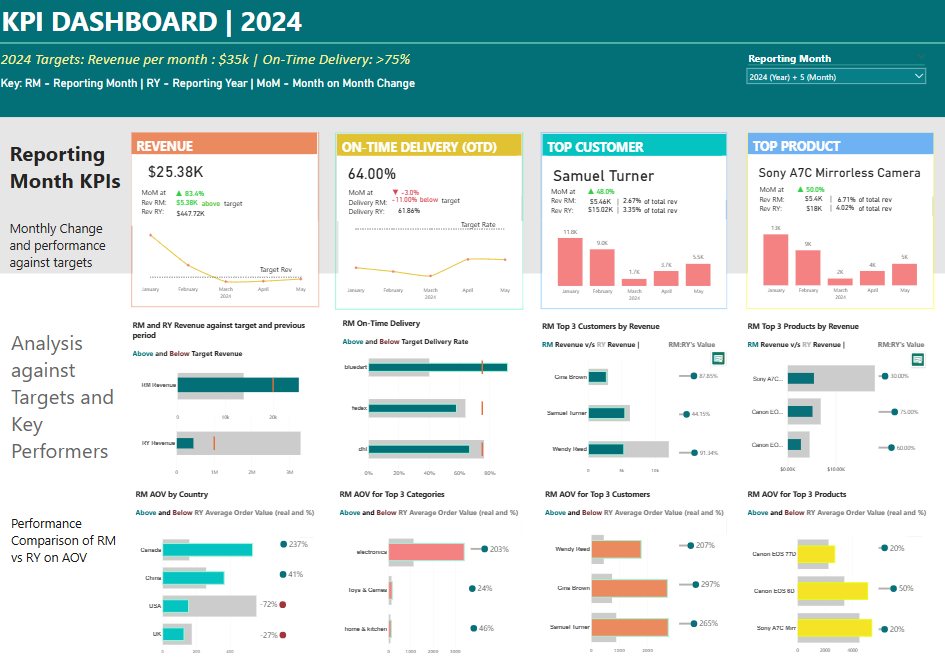

The page's visual inventory and layout, read from the dashboard file:
{"tool":"powerbi","page":{"name":"Executive Dashboard","canvas":[2000,1400],"ordinal":0},"visuals":[{"type":"textbox","box":[0,249.3,1999.2,327.5],"z":0},{"type":"cardVisual","title":"REVENUE","fields":{"Data":["Measures (2).Revenue"]},"box":[279,279.9,389,126.5],"z":0,"group":"g36"},{"type":"card","fields":{"Values":["Measures (2).Revenue_Formatted KPI"]},"box":[349.3,394.3,105.6,23.4],"z":0,"group":"g9"},{"type":"card","fields":{"Values":["Measures (2).Top Product Sales"]},"box":[1655.7,406.6,104.3,24.9],"z":0,"group":"g24"},{"type":"card","fields":{"Values":["Measures (2).Top Customer Sales"]},"box":[1210.8,412.2,103.2,26.5],"z":0,"group":"g25"},{"type":"lollipopBarChart29115F0ADEDB437DBCDF8E8A3E66E088","fields":{"axis":["order_items.Customer"],"values":["Measures (2).AOV_Diff_Month_Year"],"tooltips":["Measures (2).Revenue"]},"box":[1407.5,1083.9,124.4,275.8],"z":0,"group":"g13"},{"type":"lollipopBarChart29115F0ADEDB437DBCDF8E8A3E66E088","fields":{"axis":["order_items.Product_name"],"values":["Measures (2).AOV_Diff_Month_Year"],"tooltips":["Measures (2).Revenue"]},"box":[1824.3,1087,118.2,286.2],"z":0,"group":"g18"},{"type":"lollipopBarChart29115F0ADEDB437DBCDF8E8A3E66E088","fields":{"axis":["category.category_name"],"values":["Measures (2).AOV_Diff_Month_Year"],"tooltips":["Measures (2).Revenue"]},"box":[967.6,1092.4,132.7,280],"z":0,"group":"g21"},{"type":"textbox","box":[0,92.9,1999.2,156.4],"z":1000},{"type":"cardVisual","title":"ON-TIME DELIVERY (OTD)","fields":{"Data":["Measures (2).OTD orders"]},"box":[712,283.1,387,129.4],"z":1000,"group":"g40"},{"type":"group","id":"g1","title":"Group 2","box":[1588.9,383.8,167,75.9],"z":1000,"group":"g24"},{"type":"textbox","box":[1588.9,383.8,118,75.9],"z":1000,"group":"g26"},{"type":"group","id":"g2","title":"Group 2","box":[1153.8,386.9,163.8,78.3],"z":1000,"group":"g25"},{"type":"textbox","box":[1153.8,386.9,116.1,78.3],"z":1000,"group":"g27"},{"type":"textbox","box":[730.3,389,136.4,75.7],"z":1000,"group":"g22"},{"type":"textbox","box":[294.6,389.3,113.6,82.5],"z":1000,"group":"g9"},{"type":"group","id":"g3","title":"Group 5","box":[1566.8,669.8,394.1,338.1],"z":1000,"group":"g20"},{"type":"group","id":"g4","title":"Group 8","box":[282.3,1021.7,387.8,367.1],"z":1000,"group":"g12"},{"type":"group","id":"g5","title":"Group 8","box":[710.4,1021.9,389,365],"z":1000,"group":"g21"},{"type":"group","id":"g6","title":"Group 8","box":[1566.8,1021.9,389.9,365],"z":1000,"group":"g18"},{"type":"group","id":"g7","title":"Group 8","box":[1142,1022.4,386,365],"z":1000,"group":"g13"},{"type":"textbox","box":[0,0,1999.3,93.3],"z":2000},{"type":"cardVisual","title":"TOP CUSTOMER","fields":{"Data":["Measures (2).Top Customer Name"]},"box":[1141.4,283,386,138.4],"z":2000,"group":"g38"},{"type":"card","fields":{"Values":["Measures (2).Delivery Difference"]},"box":[788.2,403.5,130.3,39.4],"z":2000,"group":"g22"},{"type":"card","fields":{"Values":["Measures (2).Revenue Difference"]},"box":[332.9,405.3,124.8,43.7],"z":2000,"group":"g9"},{"type":"lineChart","fields":{"Y":["Measures (2).YTD Revenue Selected","Measures (2).Target Rev YTD"],"Category":["ps_calendar.Year","ps_calendar.MonthName"]},"box":[281.8,465.6,388.6,178.4],"z":2000,"group":"g37"},{"type":"lollipopBarChart29115F0ADEDB437DBCDF8E8A3E66E088","fields":{"axis":["order_items.Product_name"],"values":["Measures (2).Rev_Diff_Month_Year"],"tooltips":["Measures (2).Revenue"]},"box":[1824.3,736.5,124.4,255.1],"z":2000,"group":"g20"},{"type":"group","id":"g8","title":"Group 11","box":[1139.3,279.9,390.1,370],"z":3000,"group":"g17"},{"type":"cardVisual","title":"TOP PRODUCT","fields":{"Data":["Measures (2).Top Product Name"]},"box":[1570.8,279.9,389,133.7],"z":3000,"group":"g39"},{"type":"textbox","box":[278.8,280,393,366],"z":3000},{"type":"group","id":"g9","title":"Group 1","box":[294.6,389.3,288.2,85.2],"z":3000,"group":"g36"},{"type":"card","fields":{"Values":["Measures (2).Del_diff_above/below"]},"box":[860.6,409.7,89,27],"z":3000,"group":"g22"},{"type":"card","fields":{"Values":["Measures (2).Rev_diff_above/below"]},"box":[402.5,414.1,86.9,27.9],"z":3000,"group":"g9"},{"type":"group","id":"g10","title":"Group 12","box":[1568.8,279.9,393,370],"z":4000,"group":"g20"},{"type":"textbox","box":[925.8,387,119,77.9],"z":4000,"group":"g22"},{"type":"textbox","box":[469.2,392.1,113.6,82.5],"z":4000,"group":"g9"},{"type":"textbox","box":[542.6,551.4,109.7,49.8],"z":4000,"group":"g37"},{"type":"lollipopBarChart29115F0ADEDB437DBCDF8E8A3E66E088","fields":{"axis":["sellers.origin"],"values":["Measures (2).AOV_Diff_Month_Year"],"tooltips":["Measures (2).AOV"]},"box":[530.9,1093,134.8,284.1],"z":4000},{"type":"slicer","fields":{"Values":["DimDate.Year","DimDate.Month"]},"box":[1561.7,102.6,395.9,100.2],"z":5000},{"type":"group","id":"g11","title":"Group 15","box":[708.5,279.9,393,733.3],"z":5000,"group":"g14"},{"type":"card","fields":{"Values":["Measures (2).OTD_Formatted KPI"]},"box":[792.4,385.7,121.9,41.5],"z":5000,"group":"g40"},{"type":"card","fields":{"Values":["Measures (2).Yearly Top Product Revenue"]},"box":[1661.9,425.3,93.9,31.1],"z":5000,"group":"g26"},{"type":"card","fields":{"Values":["Measures (2).Yearly Top Customer Revenue"]},"box":[1217.8,428,91.3,31.1],"z":5000,"group":"g27"},{"type":"card","fields":{"Values":["Measures (2).Yearly OTD"]},"box":[815.1,430.4,93.1,29],"z":5000,"group":"g22"},{"type":"card","fields":{"Values":["Measures (2).Yearly Revenue"]},"box":[358.1,432.1,89.8,32.4],"z":5000,"group":"g9"},{"type":"textbox","box":[708.5,279.9,393,371],"z":5501,"group":"g41"},{"type":"textbox","box":[1568.8,279.9,393,370],"z":5501,"group":"g10"},{"type":"group","id":"g12","title":"Group 22","box":[277,279.9,393.4,1108.9],"z":6000},{"type":"card","fields":{"Values":["Measures (2).TopProduct_Formatted KPI"]},"box":[1654.3,387.7,91.8,29],"z":6000,"group":"g39"},{"type":"card","fields":{"Values":["Measures (2).TopCustomer_Formatted KPI"]},"box":[1211.9,393.1,105.8,24.9],"z":6000,"group":"g2"},{"type":"group","id":"g13","title":"Group 17","box":[1142,1022.4,390,365],"z":6000,"group":"g17"},{"type":"textbox","box":[1139.3,279.9,390.1,370],"z":6001,"group":"g8"},{"type":"group","id":"g14","title":"Group 23","box":[708.5,279.9,393,1107],"z":7000},{"type":"group","id":"g15","title":"Group 7","box":[277,667.9,390,348.7],"z":7000,"group":"g19"},{"type":"group","id":"g16","title":"Group 18","box":[1136.9,669.2,394.3,337.6],"z":7000,"group":"g17"},{"type":"group","id":"g17","title":"Group 24","box":[1136.9,279.9,395.1,1107.5],"z":8000},{"type":"lineChart","fields":{"Y":["Measures (2).OTD_YTD","Measures (2).Target Rate YTD"],"Category":["ps_calendar.Year","ps_calendar.MonthName"]},"box":[713.4,464.7,385.8,180.4],"z":8000,"group":"g41"},{"type":"group","id":"g18","title":"Group 17","box":[1566.8,1021.9,389.9,365],"z":8000,"group":"g20"},{"type":"group","id":"g19","title":"Group 21","box":[277,279.9,393.4,736.7],"z":9000,"group":"g12"},{"type":"group","id":"g20","title":"Group 25","box":[1566.8,279.9,395,1107],"z":9000},{"type":"columnChart","fields":{"Category":["ps_calendar.Year","ps_calendar.MonthName"],"Y":["Measures (2).TopCustomerSales_YTD1"]},"box":[1140.9,461,386,186.2],"z":9000,"group":"g8"},{"type":"lollipopBarChart29115F0ADEDB437DBCDF8E8A3E66E088","fields":{"axis":["order_items.Customer"],"values":["Measures (2).Rev_Diff_Month_Year"],"tooltips":["Measures (2).Revenue"]},"box":[1406.5,731.1,124.4,271.7],"z":9000,"group":"g35"},{"type":"columnChart","fields":{"Y":["Measures (2).TopProductSales_YTD"],"Category":["ps_calendar.Year","ps_calendar.MonthName"]},"box":[1570.8,456.3,388.2,191.1],"z":10000,"group":"g10"},{"type":"textbox","box":[22,669.7,239.5,696.5],"z":10000},{"type":"group","id":"g21","title":"Group 17","box":[710.4,1021.9,389.9,365],"z":10001,"group":"g14"},{"type":"textbox","box":[20,289,252,378.8],"z":11000},{"type":"group","id":"g22","title":"Group 1","box":[730.3,387,314.5,77.9],"z":12000,"group":"g40"},{"type":"group","id":"g23","title":"Group 4","box":[1588.9,383.8,345.9,75.9],"z":13000,"group":"g39"},{"type":"group","id":"g24","title":"Group 3","box":[1588.9,383.8,171.1,75.9],"z":13000,"group":"g23"},{"type":"group","id":"g25","title":"Group 3","box":[1153.8,386.9,163.8,78.3],"z":13000,"group":"g28"},{"type":"group","id":"g26","title":"Group 1","box":[1588.9,383.8,167,75.9],"z":13002,"group":"g1"},{"type":"group","id":"g27","title":"Group 1","box":[1153.8,386.9,155.3,78.3],"z":13002,"group":"g2"},{"type":"group","id":"g28","title":"Group 4","box":[1153.8,386.9,330.8,78.3],"z":14000,"group":"g38"},{"type":"card","fields":{"Values":["Measures (2).Yearly Top Product Revenue Contribution"]},"box":[1728.7,425.3,91.8,29],"z":14000,"group":"g23"},{"type":"card","fields":{"Values":["Measures (2).Yearly Top Customer Revenue Contribution"]},"box":[1284.5,428.4,91.3,31.1],"z":14000,"group":"g28"},{"type":"textbox","box":[1736.8,421.1,39.7,33.2],"z":15000,"group":"g23"},{"type":"textbox","box":[1293.8,424,38,34.7],"z":15000,"group":"g28"},{"type":"textbox","box":[1796.2,425.1,136.6,33.6],"z":16000,"group":"g23"},{"type":"textbox","box":[1348.8,429,134.4,34.7],"z":16000,"group":"g28"},{"type":"textbox","box":[967.9,456,112,49.8],"z":16000,"group":"g41"},{"type":"card","fields":{"Values":["Measures (2).Monthly Top Customer Revenue Contribution"]},"box":[1730.8,404.5,91.8,31.1],"z":17000,"group":"g23"},{"type":"card","fields":{"Values":["Measures (2).Monthly Top Customer Revenue Contribution"]},"box":[1282.4,409.7,91.3,31.1],"z":17000,"group":"g28"},{"type":"group","id":"g29","title":"Group 5","box":[713.2,663.4,388.1,349.8],"z":17000,"group":"g11"},{"type":"horizontalbullechart174B6169C26AD2E17C7ECE5DC5DCDFBB","fields":{"col_0":["shipping.shipping providers"],"col_2":["Measures (2).OTD_Previous"],"col_1":["Measures (2).OTD orders"],"col_5":["Measures (2).Target Rate"]},"box":[713.2,712.4,387.8,300.7],"z":17000,"group":"g29"},{"type":"horizontalbullechart174B6169C26AD2E17C7ECE5DC5DCDFBB","fields":{"col_0":["order_items.RM Revenue"],"col_2":["Measures (2).RM_Previous"],"col_1":["Measures (2).Revenue"],"col_5":["Measures (2).Target Rev"]},"box":[285.3,732.5,373.3,165.9],"z":17000,"group":"g30"},{"type":"horizontalbullechart174B6169C26AD2E17C7ECE5DC5DCDFBB","fields":{"col_0":["order_items.Customer"],"col_2":["Measures (2).RY_Revenue"],"col_1":["Measures (2).Revenue"]},"box":[1136.9,737.1,294.5,269.6],"z":17000,"group":"g35"},{"type":"PBI_CV_9272D058_BEA0_476A_B090_A712545F92FA","fields":{"Category":["order_items.Product_name"],"Value":["Measures (2).Revenue"],"ComparisonValue":["Measures (2).RY_Revenue"]},"box":[1568.4,746.9,292,261],"z":17000,"group":"g3"},{"type":"textbox","box":[1738,402.1,48,35.3],"z":18000,"group":"g23"},{"type":"textbox","box":[1293.8,408,46.9,37.7],"z":18000,"group":"g28"},{"type":"textbox","box":[718.7,663.4,382.6,89.7],"z":18000,"group":"g29"},{"type":"group","id":"g30","title":"Group 6","box":[277,667.9,390,230.5],"z":18000,"group":"g15"},{"type":"textbox","box":[277,667.9,390,117.4],"z":18000,"group":"g30"},{"type":"textbox","box":[1137.2,669.2,394.1,97.5],"z":18000,"group":"g16"},{"type":"textbox","box":[282.3,1021.7,387.8,105.8],"z":18000,"group":"g31"},{"type":"textbox","box":[711.6,1021.9,387.8,109.5],"z":18000,"group":"g32"},{"type":"textbox","box":[1566.8,1021.9,389.9,103.9],"z":18000,"group":"g33"},{"type":"textbox","box":[1142,1022.4,386,101.4],"z":18000,"group":"g34"},{"type":"horizontalbullechart174B6169C26AD2E17C7ECE5DC5DCDFBB","fields":{"col_0":["order_items.Customer"],"col_2":["Measures (2).RY_AOV"],"col_1":["Measures (2).AOV"],"col_3":["Measures (2).Revenue"]},"box":[1143.5,1099.1,287.2,288.3],"z":18000,"group":"g7"},{"type":"horizontalbullechart174B6169C26AD2E17C7ECE5DC5DCDFBB","fields":{"col_0":["category.category_name"],"col_3":["Measures (2).Revenue"],"col_2":["Measures (2).RY_AOV"],"col_1":["Measures (2).AOV"]},"box":[710.4,1103,289.6,283.9],"z":18000,"group":"g5"},{"type":"horizontalbullechart174B6169C26AD2E17C7ECE5DC5DCDFBB","fields":{"col_0":["order_items.Product_name"],"col_2":["Measures (2).RY_AOV"],"col_1":["Measures (2).AOV"]},"box":[1566.8,1110.8,289.1,276.1],"z":18000,"group":"g6"},{"type":"horizontalbullechart174B6169C26AD2E17C7ECE5DC5DCDFBB","fields":{"col_0":["sellers.origin"],"col_1":["Measures (2).AOV"],"col_2":["Measures (2).RY_AOV"],"col_3":["Sum(order_items.Revenue)"]},"box":[282.3,1110.9,284.1,277.9],"z":18000,"group":"g4"},{"type":"textbox","box":[1566.8,669.8,394.1,97],"z":18500,"group":"g3"},{"type":"textbox","box":[1798.2,405.1,136.6,33.6],"z":19000,"group":"g23"},{"type":"textbox","box":[1349.8,409,134.8,33.2],"z":19000,"group":"g28"},{"type":"horizontalbullechart174B6169C26AD2E17C7ECE5DC5DCDFBB","fields":{"col_0":["order_items.RY Revenue"],"col_1":["Measures (2).RY_Revenue"],"col_2":["Measures (2).RY_Previous"],"col_5":["Measures (2).RY Target"]},"box":[285.3,863.2,377.5,153.5],"z":20000,"group":"g15"},{"type":"group","id":"g31","title":"Group 5","box":[282.3,1021.7,387.8,105.8],"z":23000,"group":"g4"},{"type":"group","id":"g32","title":"Group 5","box":[711.6,1021.9,387.8,109.5],"z":23000,"group":"g5"},{"type":"group","id":"g33","title":"Group 5","box":[1566.8,1021.9,389.9,103.9],"z":23000,"group":"g6"},{"type":"group","id":"g34","title":"Group 5","box":[1142,1022.4,386,101.4],"z":23000,"group":"g7"},{"type":"group","id":"g35","title":"Group 16","box":[1136.9,731.1,394.1,275.7],"z":24003,"group":"g16"},{"type":"group","id":"g36","title":"Group 19","box":[279,279.9,389,194.6],"z":24006,"group":"g37"},{"type":"group","id":"g37","title":"Group 20","box":[279,279.9,391.4,364.2],"z":24007,"group":"g19"},{"type":"group","id":"g38","title":"Group 9","box":[1141.4,283,386,182.3],"z":25002,"group":"g8"},{"type":"group","id":"g39","title":"Group 10","box":[1570.8,279.9,389,179.8],"z":25003,"group":"g10"},{"type":"group","id":"g40","title":"Group 13","box":[712,283.1,387,181.8],"z":25006,"group":"g41"},{"type":"group","id":"g41","title":"Group 14","box":[708.5,279.9,393,371],"z":25007,"group":"g11"}]}

Visuals, with their boxes in screenshot pixels (x1, y1, x2, y2), scaled from the page's 2000x1400 canvas onto the 945x663 screenshot:
textbox: BBox(0, 118, 944, 273)
"REVENUE" cardVisual: BBox(132, 133, 316, 192)
card - Measures (2).Revenue_Formatted KPI: BBox(165, 187, 215, 198)
card - Measures (2).Top Product Sales: BBox(782, 193, 832, 204)
card - Measures (2).Top Customer Sales: BBox(572, 195, 621, 208)
lollipopBarChart29115F0ADEDB437DBCDF8E8A3E66E088 - order_items.Customer x Measures (2).AOV_Diff_Month_Year: BBox(665, 513, 724, 644)
lollipopBarChart29115F0ADEDB437DBCDF8E8A3E66E088 - order_items.Product_name x Measures (2).AOV_Diff_Month_Year: BBox(862, 515, 918, 650)
lollipopBarChart29115F0ADEDB437DBCDF8E8A3E66E088 - category.category_name x Measures (2).AOV_Diff_Month_Year: BBox(457, 517, 520, 650)
textbox: BBox(0, 44, 944, 118)
"ON-TIME DELIVERY (OTD)" cardVisual: BBox(336, 134, 519, 195)
"Group 2" group: BBox(751, 182, 830, 218)
textbox: BBox(751, 182, 807, 218)
"Group 2" group: BBox(545, 183, 623, 220)
textbox: BBox(545, 183, 600, 220)
textbox: BBox(345, 184, 410, 220)
textbox: BBox(139, 184, 193, 223)
"Group 5" group: BBox(740, 317, 927, 477)
"Group 8" group: BBox(133, 484, 317, 658)
"Group 8" group: BBox(336, 484, 519, 657)
"Group 8" group: BBox(740, 484, 925, 657)
"Group 8" group: BBox(540, 484, 722, 657)
textbox: BBox(0, 0, 944, 44)
"TOP CUSTOMER" cardVisual: BBox(539, 134, 722, 200)
card - Measures (2).Delivery Difference: BBox(372, 191, 434, 210)
card - Measures (2).Revenue Difference: BBox(157, 192, 216, 213)
lineChart - Measures (2).YTD Revenue Selected x Measures (2).Target Rev YTD: BBox(133, 220, 317, 305)
lollipopBarChart29115F0ADEDB437DBCDF8E8A3E66E088 - order_items.Product_name x Measures (2).Rev_Diff_Month_Year: BBox(862, 349, 921, 470)
"Group 11" group: BBox(538, 133, 723, 308)
"TOP PRODUCT" cardVisual: BBox(742, 133, 926, 196)
textbox: BBox(132, 133, 317, 306)
"Group 1" group: BBox(139, 184, 275, 225)
card - Measures (2).Del_diff_above/below: BBox(407, 194, 449, 207)
card - Measures (2).Rev_diff_above/below: BBox(190, 196, 231, 209)
"Group 12" group: BBox(741, 133, 927, 308)
textbox: BBox(437, 183, 494, 220)
textbox: BBox(222, 186, 275, 225)
textbox: BBox(256, 261, 308, 285)
lollipopBarChart29115F0ADEDB437DBCDF8E8A3E66E088 - sellers.origin x Measures (2).AOV_Diff_Month_Year: BBox(251, 518, 315, 652)
slicer - DimDate.Year x DimDate.Month: BBox(738, 49, 925, 96)
"Group 15" group: BBox(335, 133, 520, 480)
card - Measures (2).OTD_Formatted KPI: BBox(374, 183, 432, 202)
card - Measures (2).Yearly Top Product Revenue: BBox(785, 201, 830, 216)
card - Measures (2).Yearly Top Customer Revenue: BBox(575, 203, 619, 217)
card - Measures (2).Yearly OTD: BBox(385, 204, 429, 218)
card - Measures (2).Yearly Revenue: BBox(169, 205, 212, 220)
textbox: BBox(335, 133, 520, 308)
textbox: BBox(741, 133, 927, 308)
"Group 22" group: BBox(131, 133, 317, 658)
card - Measures (2).TopProduct_Formatted KPI: BBox(782, 184, 825, 197)
card - Measures (2).TopCustomer_Formatted KPI: BBox(573, 186, 623, 198)
"Group 17" group: BBox(540, 484, 724, 657)
textbox: BBox(538, 133, 723, 308)
"Group 23" group: BBox(335, 133, 520, 657)
"Group 7" group: BBox(131, 316, 315, 481)
"Group 18" group: BBox(537, 317, 723, 477)
"Group 24" group: BBox(537, 133, 724, 657)
lineChart - Measures (2).OTD_YTD x Measures (2).Target Rate YTD: BBox(337, 220, 519, 306)
"Group 17" group: BBox(740, 484, 925, 657)
"Group 21" group: BBox(131, 133, 317, 481)
"Group 25" group: BBox(740, 133, 927, 657)
columnChart - ps_calendar.Year x ps_calendar.MonthName: BBox(539, 218, 721, 306)
lollipopBarChart29115F0ADEDB437DBCDF8E8A3E66E088 - order_items.Customer x Measures (2).Rev_Diff_Month_Year: BBox(665, 346, 723, 475)
columnChart - Measures (2).TopProductSales_YTD x ps_calendar.Year: BBox(742, 216, 926, 307)
textbox: BBox(10, 317, 124, 647)
"Group 17" group: BBox(336, 484, 520, 657)
textbox: BBox(9, 137, 129, 316)
"Group 1" group: BBox(345, 183, 494, 220)
"Group 4" group: BBox(751, 182, 914, 218)
"Group 3" group: BBox(751, 182, 832, 218)
"Group 3" group: BBox(545, 183, 623, 220)
"Group 1" group: BBox(751, 182, 830, 218)
"Group 1" group: BBox(545, 183, 619, 220)
"Group 4" group: BBox(545, 183, 701, 220)
card - Measures (2).Yearly Top Product Revenue Contribution: BBox(817, 201, 860, 215)
card - Measures (2).Yearly Top Customer Revenue Contribution: BBox(607, 203, 650, 218)
textbox: BBox(821, 199, 839, 215)
textbox: BBox(611, 201, 629, 217)
textbox: BBox(849, 201, 913, 217)
textbox: BBox(637, 203, 701, 220)
textbox: BBox(457, 216, 510, 240)
card - Measures (2).Monthly Top Customer Revenue Contribution: BBox(818, 192, 861, 206)
card - Measures (2).Monthly Top Customer Revenue Contribution: BBox(606, 194, 649, 209)
"Group 5" group: BBox(337, 314, 520, 480)
horizontalbullechart174B6169C26AD2E17C7ECE5DC5DCDFBB - shipping.shipping providers x Measures (2).OTD_Previous: BBox(337, 337, 520, 480)
horizontalbullechart174B6169C26AD2E17C7ECE5DC5DCDFBB - order_items.RM Revenue x Measures (2).RM_Previous: BBox(135, 347, 311, 425)
horizontalbullechart174B6169C26AD2E17C7ECE5DC5DCDFBB - order_items.Customer x Measures (2).RY_Revenue: BBox(537, 349, 676, 477)
PBI_CV_9272D058_BEA0_476A_B090_A712545F92FA - order_items.Product_name x Measures (2).Revenue: BBox(741, 354, 879, 477)
textbox: BBox(821, 190, 844, 207)
textbox: BBox(611, 193, 633, 211)
textbox: BBox(340, 314, 520, 357)
"Group 6" group: BBox(131, 316, 315, 425)
textbox: BBox(131, 316, 315, 372)
textbox: BBox(537, 317, 724, 363)
textbox: BBox(133, 484, 317, 534)
textbox: BBox(336, 484, 519, 536)
textbox: BBox(740, 484, 925, 533)
textbox: BBox(540, 484, 722, 532)
horizontalbullechart174B6169C26AD2E17C7ECE5DC5DCDFBB - order_items.Customer x Measures (2).RY_AOV: BBox(540, 521, 676, 657)
horizontalbullechart174B6169C26AD2E17C7ECE5DC5DCDFBB - category.category_name x Measures (2).Revenue: BBox(336, 522, 472, 657)
horizontalbullechart174B6169C26AD2E17C7ECE5DC5DCDFBB - order_items.Product_name x Measures (2).RY_AOV: BBox(740, 526, 877, 657)
horizontalbullechart174B6169C26AD2E17C7ECE5DC5DCDFBB - sellers.origin x Measures (2).AOV: BBox(133, 526, 268, 658)
textbox: BBox(740, 317, 927, 363)
textbox: BBox(850, 192, 914, 208)
textbox: BBox(638, 194, 701, 209)
horizontalbullechart174B6169C26AD2E17C7ECE5DC5DCDFBB - order_items.RY Revenue x Measures (2).RY_Revenue: BBox(135, 409, 313, 481)
"Group 5" group: BBox(133, 484, 317, 534)
"Group 5" group: BBox(336, 484, 519, 536)
"Group 5" group: BBox(740, 484, 925, 533)
"Group 5" group: BBox(540, 484, 722, 532)
"Group 16" group: BBox(537, 346, 723, 477)
"Group 19" group: BBox(132, 133, 316, 225)
"Group 20" group: BBox(132, 133, 317, 305)
"Group 9" group: BBox(539, 134, 722, 220)
"Group 10" group: BBox(742, 133, 926, 218)
"Group 13" group: BBox(336, 134, 519, 220)
"Group 14" group: BBox(335, 133, 520, 308)
